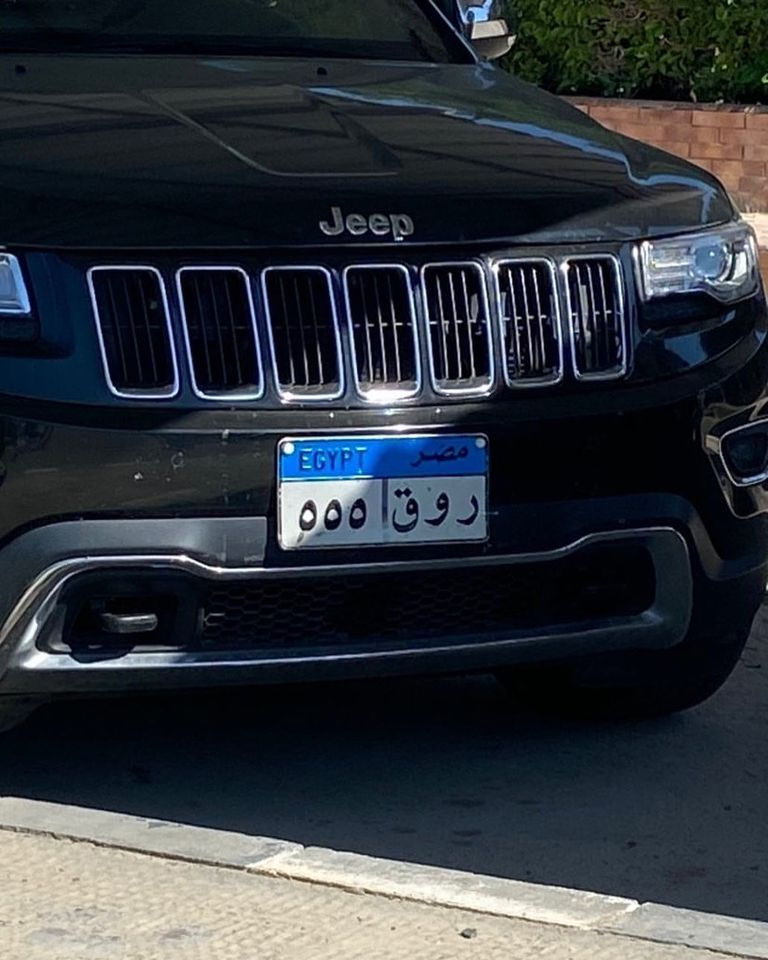carpl: (281, 468, 488, 547)
